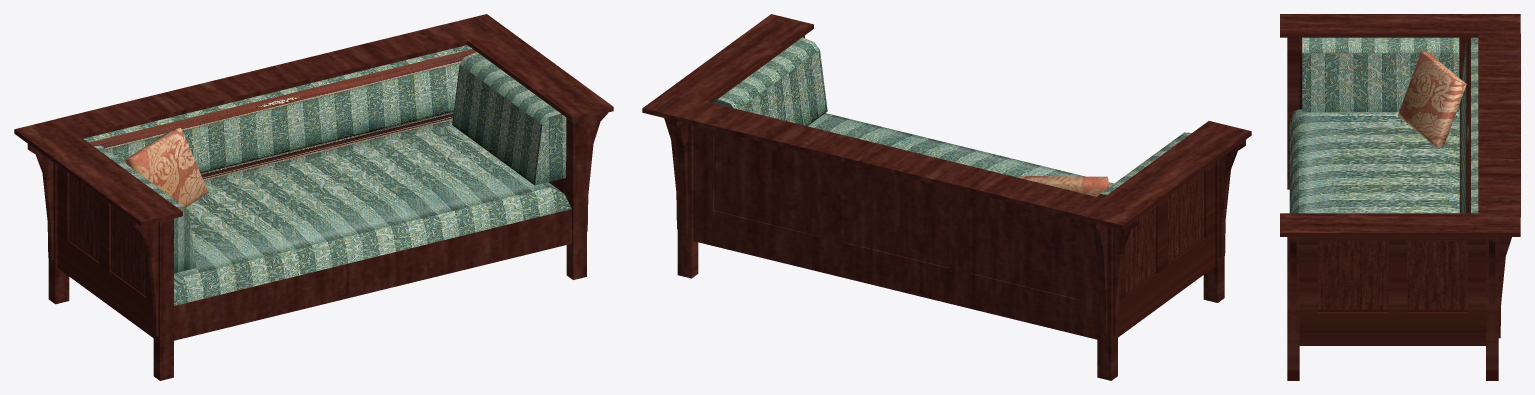
The model's file is couch2.obj.
3 views of the same model, side by side, from view 1: azimuth 30°, elevation 25°; view 2: azimuth 150°, elevation 25°; view 3: azimuth 270°, elevation 25° (orthographic). The views are drawn at different scales.
Visible parts, largest first — view 1: br_couch4, br_couch2, br_couch3; view 2: br_couch2, br_couch4, br_couch3; view 3: br_couch2, br_couch4, br_couch3.
Boxes of the visible parts, box(x1,y1,x2,y2) form: br_couch4: box(83, 45, 571, 305); br_couch2: box(14, 14, 613, 380); br_couch3: box(125, 128, 208, 207); br_couch2: box(642, 14, 1251, 380); br_couch4: box(712, 37, 1191, 198); br_couch3: box(1019, 176, 1108, 196); br_couch2: box(1280, 14, 1520, 380); br_couch4: box(1289, 37, 1478, 213); br_couch3: box(1398, 51, 1466, 147).
Size of the model in its own units: 136 by 46.05 by 63.33.
Materials: 3 (3 with a texture image).
